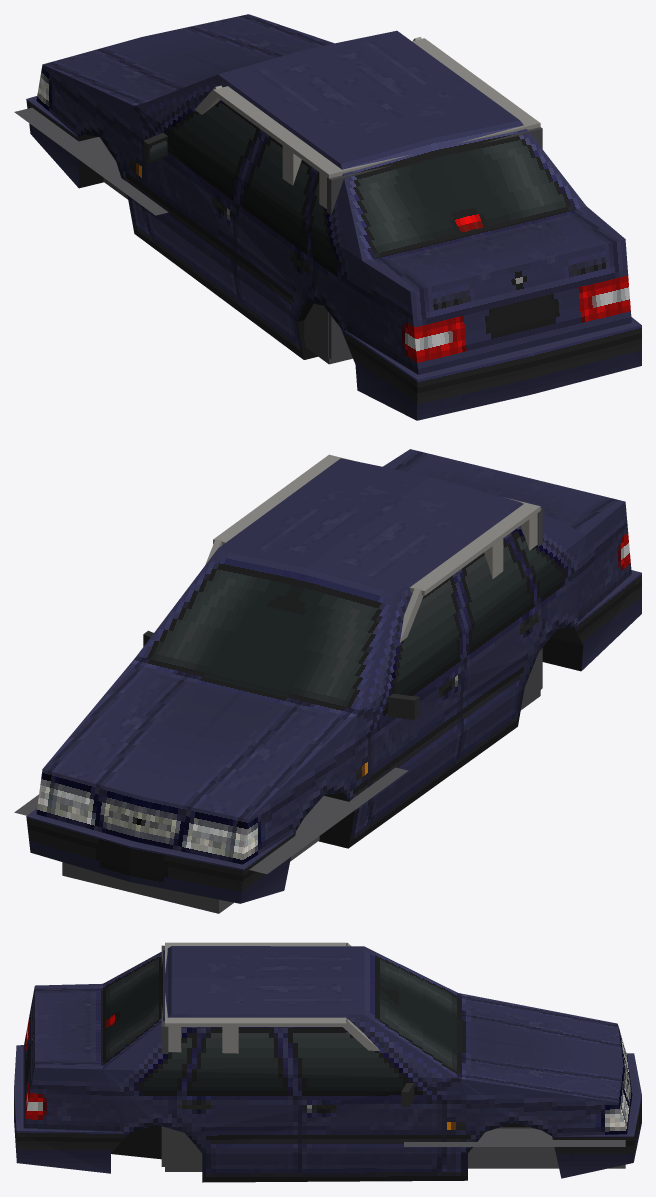
The model's file is sedan.glb.
3 views of the same model, one above another, from view 1: azimuth 30°, elevation 25°; view 2: azimuth 150°, elevation 25°; view 3: azimuth 270°, elevation 25° (orthographic). The views are drawn at different scales.
Parts seen in each view (by area): view 1: body, hood, interior, bay; view 2: body, hood, interior, bay; view 3: body, hood, interior, bay.
Boxes of the visible parts, left/top/right/bottom form: body: left=26, top=30, right=641, bottom=420; hood: left=27, top=14, right=334, bottom=144; interior: left=194, top=37, right=542, bottom=364; bay: left=14, top=107, right=168, bottom=215; body: left=26, top=449, right=641, bottom=903; hood: left=26, top=630, right=418, bottom=869; interior: left=205, top=454, right=542, bottom=710; bay: left=14, top=767, right=408, bottom=913; body: left=14, top=946, right=641, bottom=1182; hood: left=401, top=993, right=641, bottom=1136; interior: left=161, top=942, right=379, bottom=1171; bay: left=404, top=1127, right=625, bottom=1168.
Bounding box in the file's own units: 1.8 × 1.33 × 4.6.
Materials: 8 (1 with a texture image).
